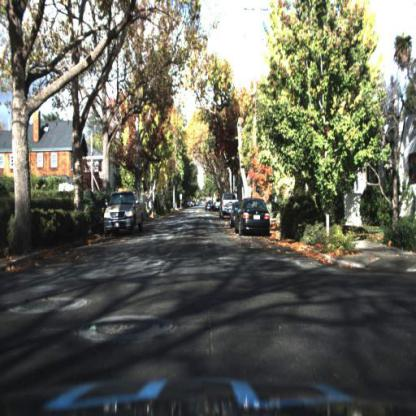car: (236, 198, 276, 242), (104, 190, 142, 234), (219, 191, 240, 221), (221, 194, 233, 222), (206, 199, 217, 213)
